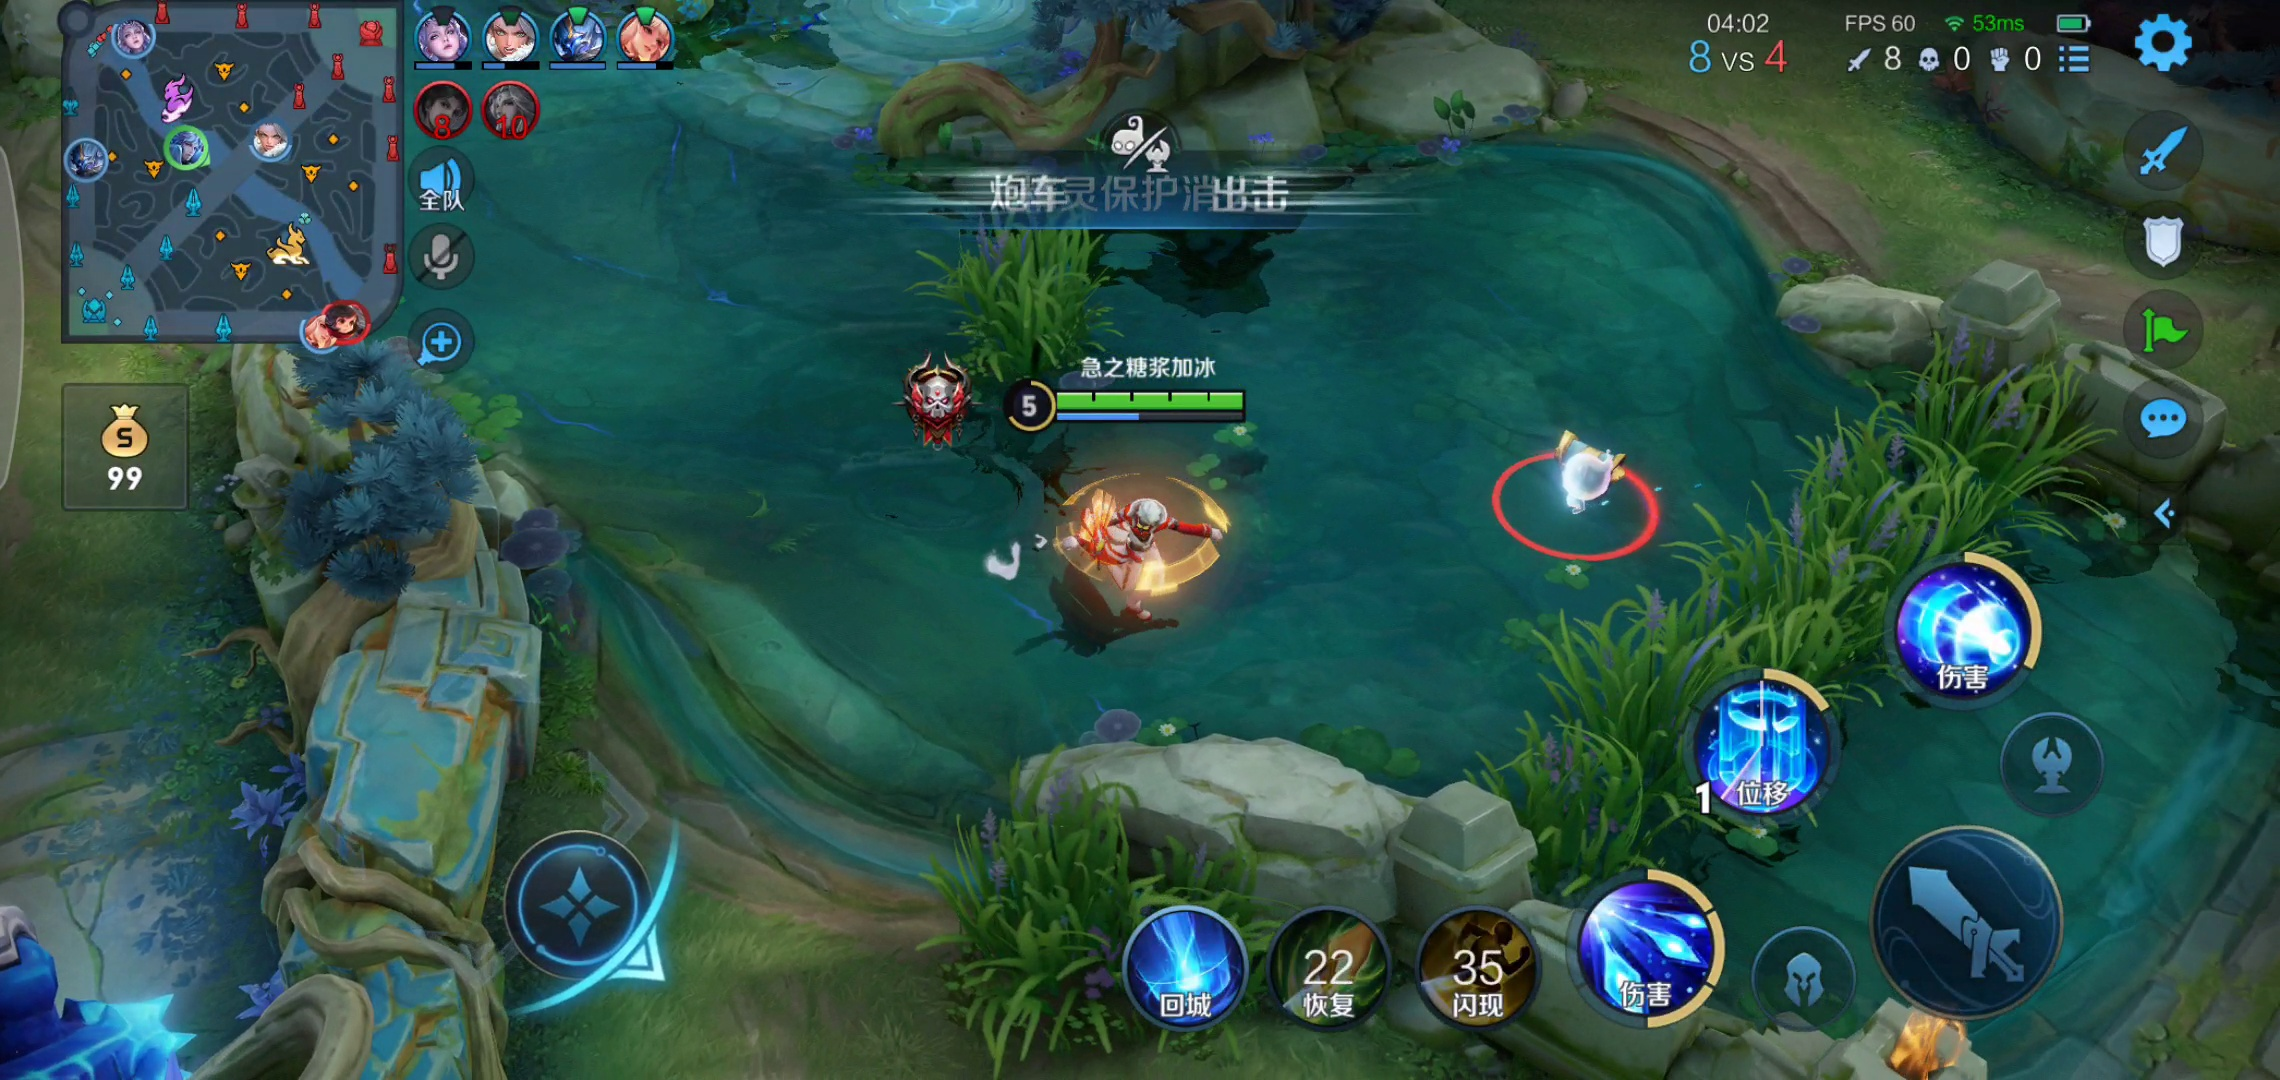buff: (7, 852, 193, 1080)
grass: (1482, 343, 2111, 930), (936, 760, 1316, 1065), (912, 219, 1149, 404)
hero: (1048, 472, 1232, 645)
